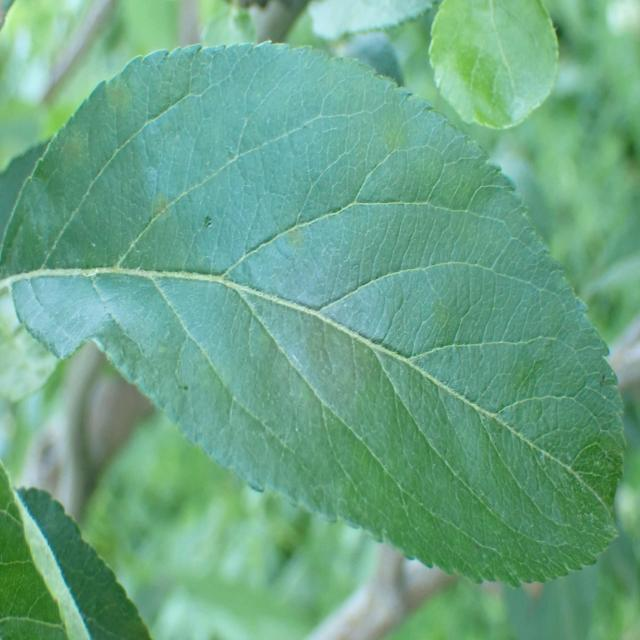scab: (24, 61, 600, 521)
